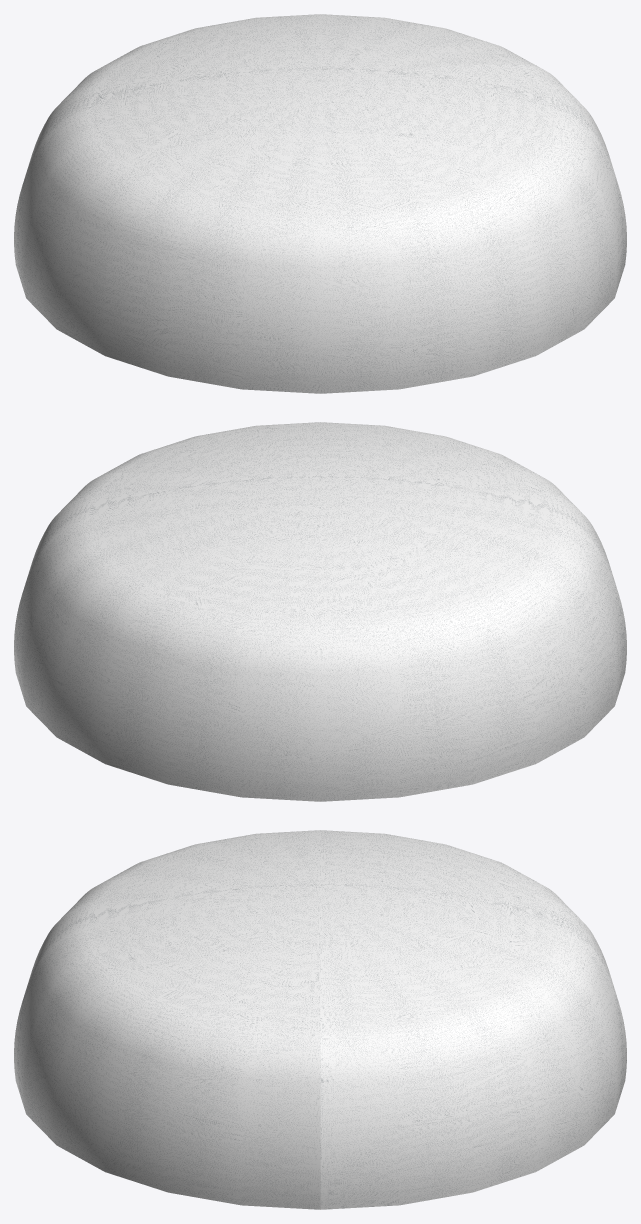
The model's file is original-2.obj.
3 views of the same model, one above another, from view 1: azimuth 30°, elevation 25°; view 2: azimuth 150°, elevation 25°; view 3: azimuth 270°, elevation 25° (orthographic).
Parts seen in each view (by area): view 1: mesh2/mesh2-geometry#mesh2-geometry; view 2: mesh2/mesh2-geometry#mesh2-geometry; view 3: mesh2/mesh2-geometry#mesh2-geometry.
Boxes of the visible parts, x1=… form: mesh2/mesh2-geometry#mesh2-geometry: x1=14, y1=14, x2=626, y2=393; mesh2/mesh2-geometry#mesh2-geometry: x1=14, y1=422, x2=626, y2=801; mesh2/mesh2-geometry#mesh2-geometry: x1=14, y1=830, x2=626, y2=1209.
Size of the model in its own units: 0.2483 by 0.0796 by 0.2483.
